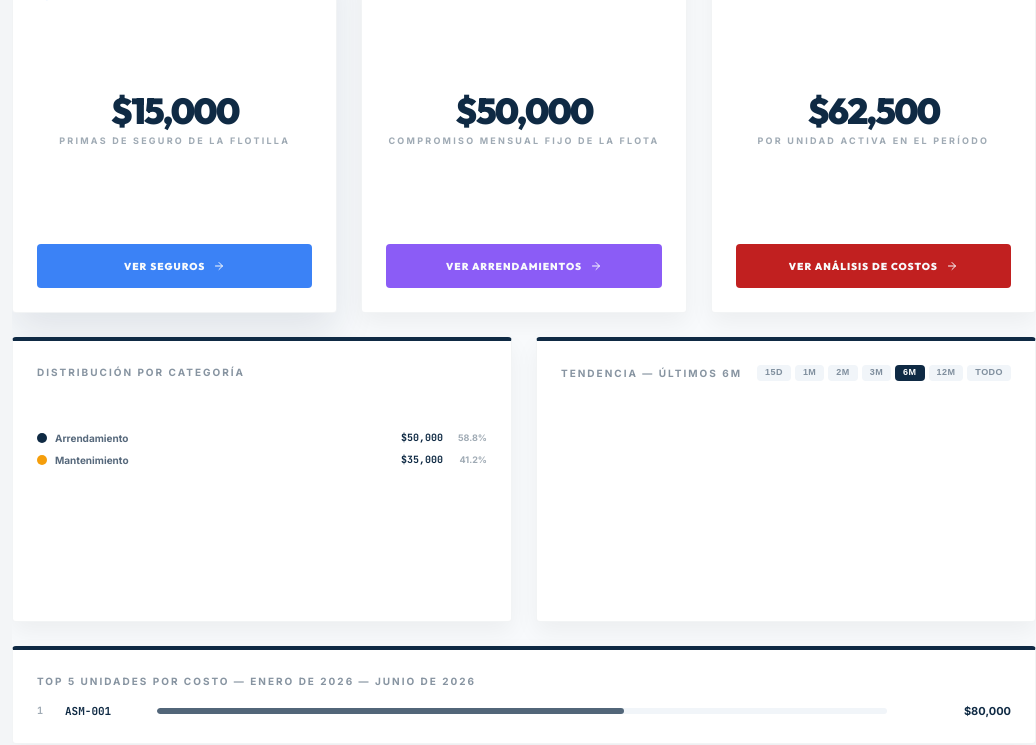
FinancialDashboard › switching the chart window updates the trend label
(page scrolled)
Expected: the text "Tendencia — Últimos 6M" is shown, [561, 366, 742, 380]
Step 1. Click the button "12M" → (946, 373), box [928, 365, 963, 381]
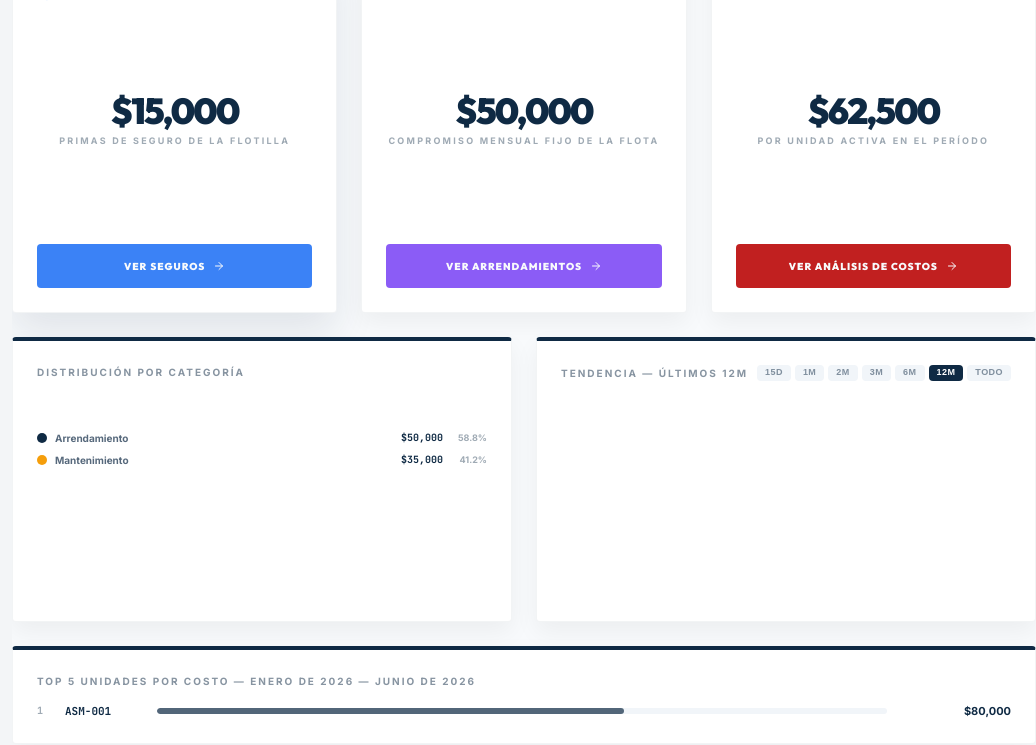
Expected: the text "Tendencia — Últimos 12M" is shown, [561, 366, 748, 380]
